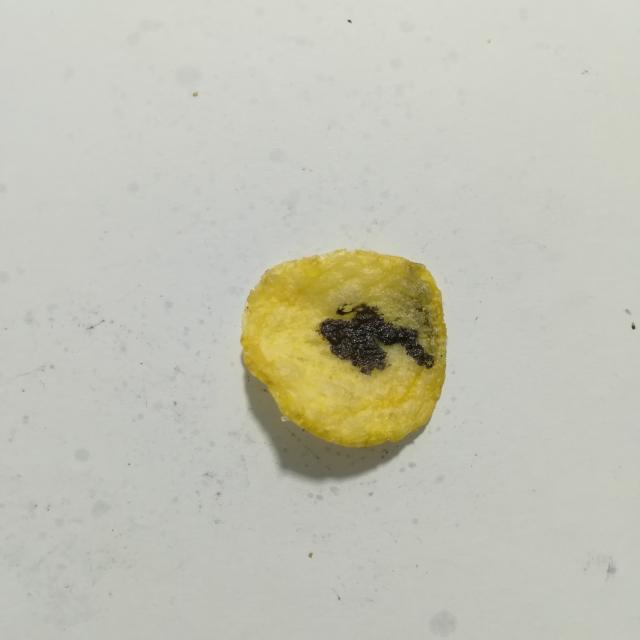chip: (240, 250, 447, 447)
damaged: (318, 303, 434, 374)
semi-damaged: (381, 263, 439, 356)
